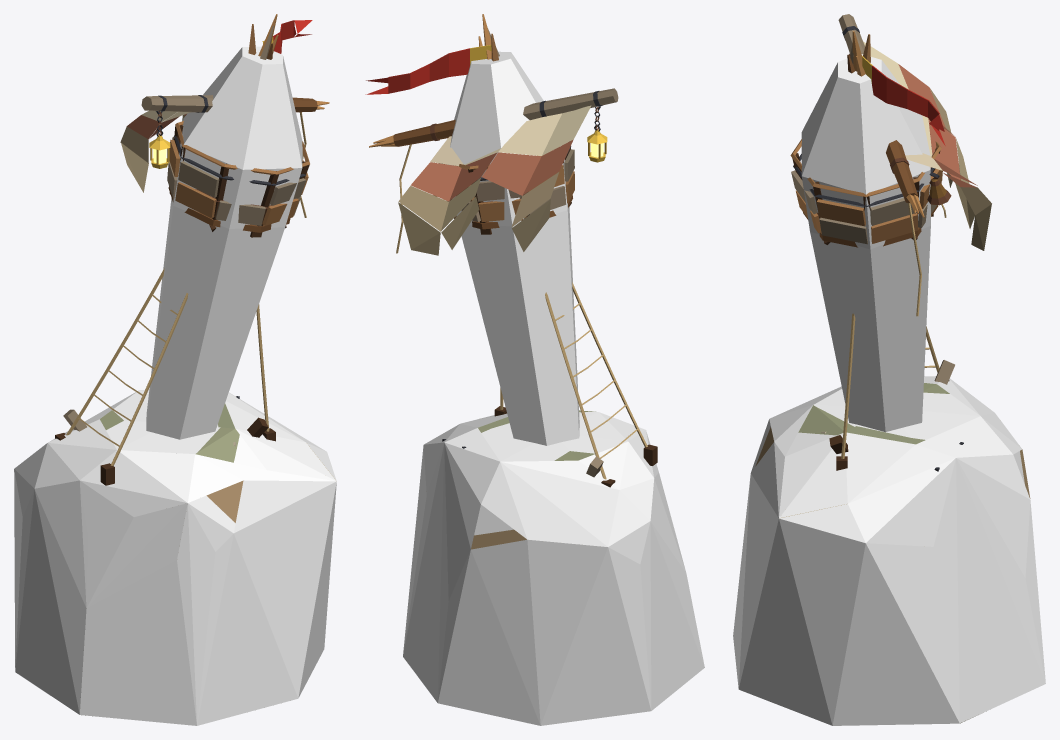
File: wooden_shipwreck_crow_nest_mast.glb
The picture shows the model from 3 angles, left to right: view 1: azimuth 30°, elevation 25°; view 2: azimuth 150°, elevation 25°; view 3: azimuth 270°, elevation 25°; orthographic projection. The views are drawn at different scales.
Visible parts, largest first — view 1: col_mast_base, col_mast_trunk, WoodenShipwreckCrowNestMast; view 2: col_mast_base, col_mast_trunk, WoodenShipwreckCrowNestMast; view 3: col_mast_base, col_mast_trunk, WoodenShipwreckCrowNestMast.
Part boxes in pixels (<box>): col_mast_base: <box>14,390,336,725</box>; col_mast_trunk: <box>146,46,302,439</box>; WoodenShipwreckCrowNestMast: <box>55,14,334,716</box>; col_mast_base: <box>403,412,704,725</box>; col_mast_trunk: <box>446,51,579,445</box>; WoodenShipwreckCrowNestMast: <box>365,14,657,657</box>; col_mast_base: <box>733,376,1045,725</box>; col_mast_trunk: <box>801,54,930,432</box>; WoodenShipwreckCrowNestMast: <box>755,14,1030,723</box>.
Size of the model in its own units: 6.58 by 13.2 by 5.54.
